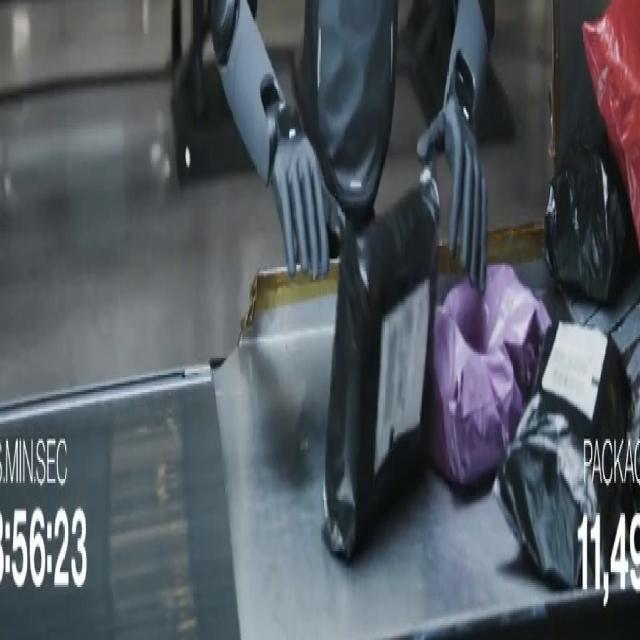package: (324, 179, 438, 559), (495, 323, 632, 587), (430, 265, 550, 487), (545, 140, 638, 305), (583, 0, 639, 243)
